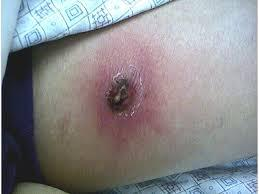Spider: (87, 63, 150, 135)
